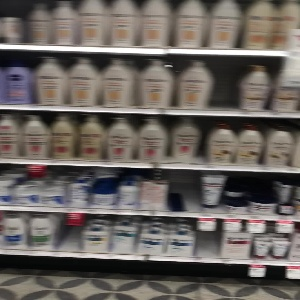void: (166, 169, 203, 212), (211, 57, 240, 110), (55, 214, 84, 254), (196, 222, 220, 259)
